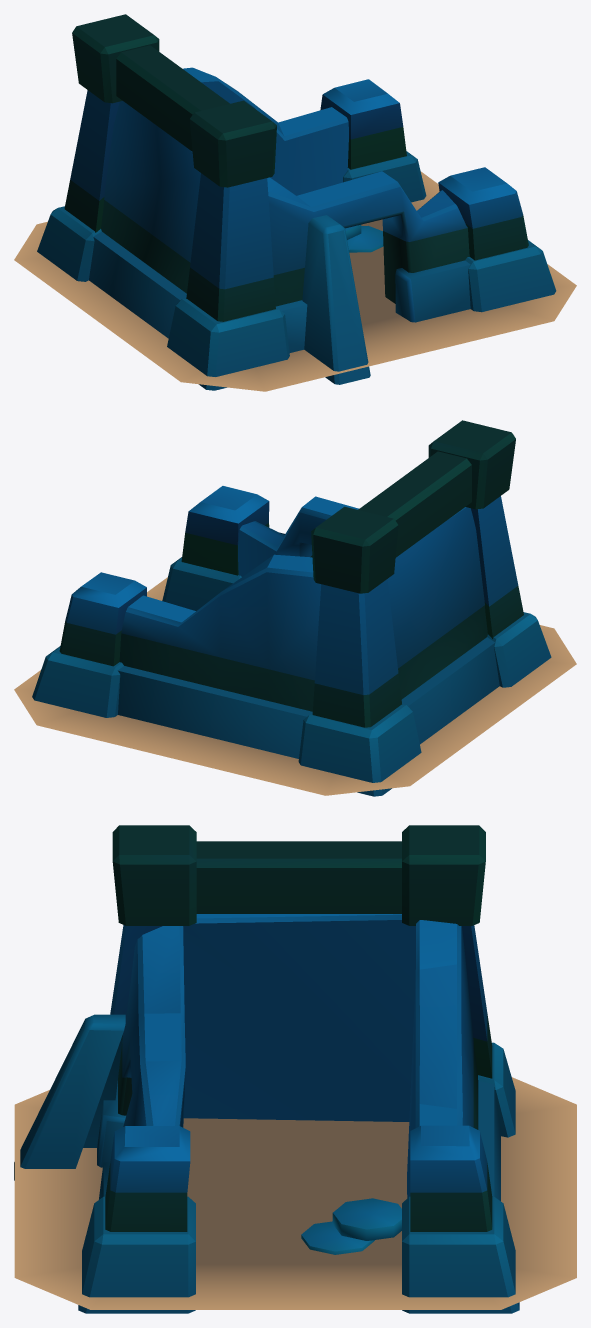
Rendered from Treasure_Broken.fbx.
3 views of the same model, one above another, from view 1: azimuth 30°, elevation 25°; view 2: azimuth 150°, elevation 25°; view 3: azimuth 270°, elevation 25° (orthographic). The views are drawn at different scales.
Visible parts, largest first — view 1: Treasure_Broken; view 2: Treasure_Broken; view 3: Treasure_Broken.
Part boxes in pixels (left/top/right/bottom): Treasure_Broken: left=14, top=14, right=576, bottom=391; Treasure_Broken: left=14, top=420, right=576, bottom=796; Treasure_Broken: left=14, top=825, right=576, bottom=1313.
Bounding box in the file's own units: 4271 × 2535 × 4277.
